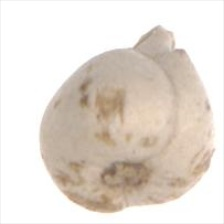L3: (125, 25, 187, 63)
L4: (39, 27, 215, 213)
